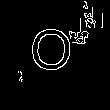O_S: (31, 28, 79, 82)
